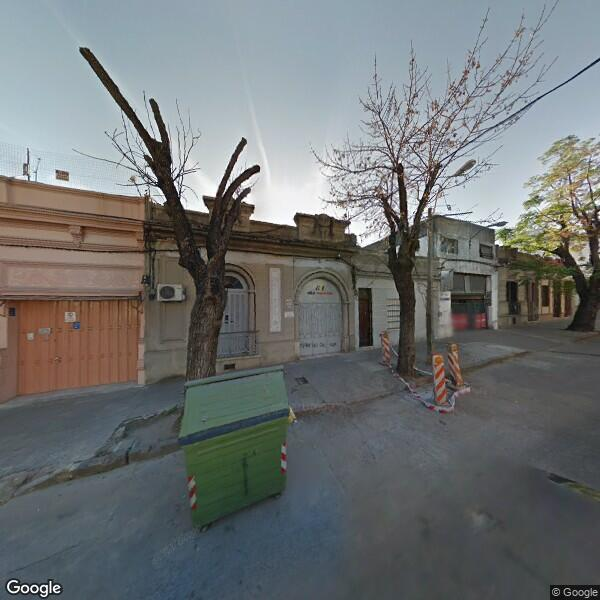Trash: (181, 367, 291, 534)
